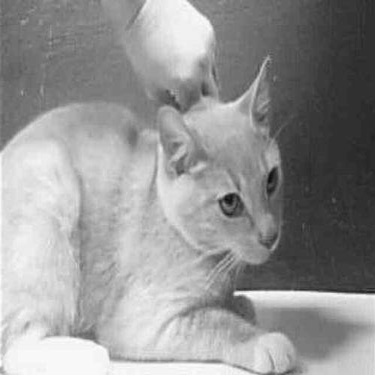cat: (1, 44, 309, 372)
